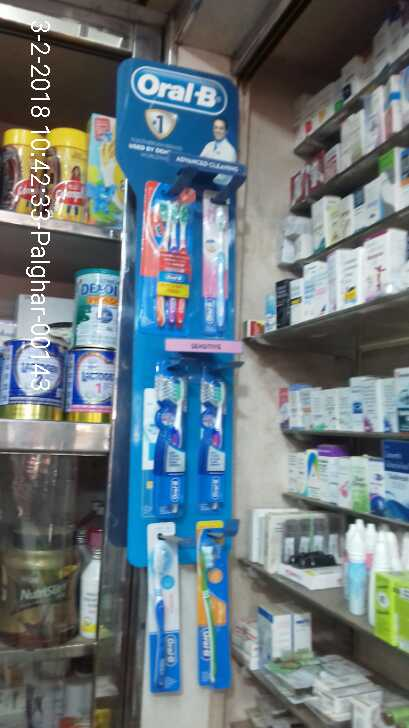oralb: (190, 172, 234, 338), (140, 365, 186, 517), (150, 525, 189, 694), (148, 182, 190, 326), (198, 370, 229, 516), (201, 534, 224, 677)
